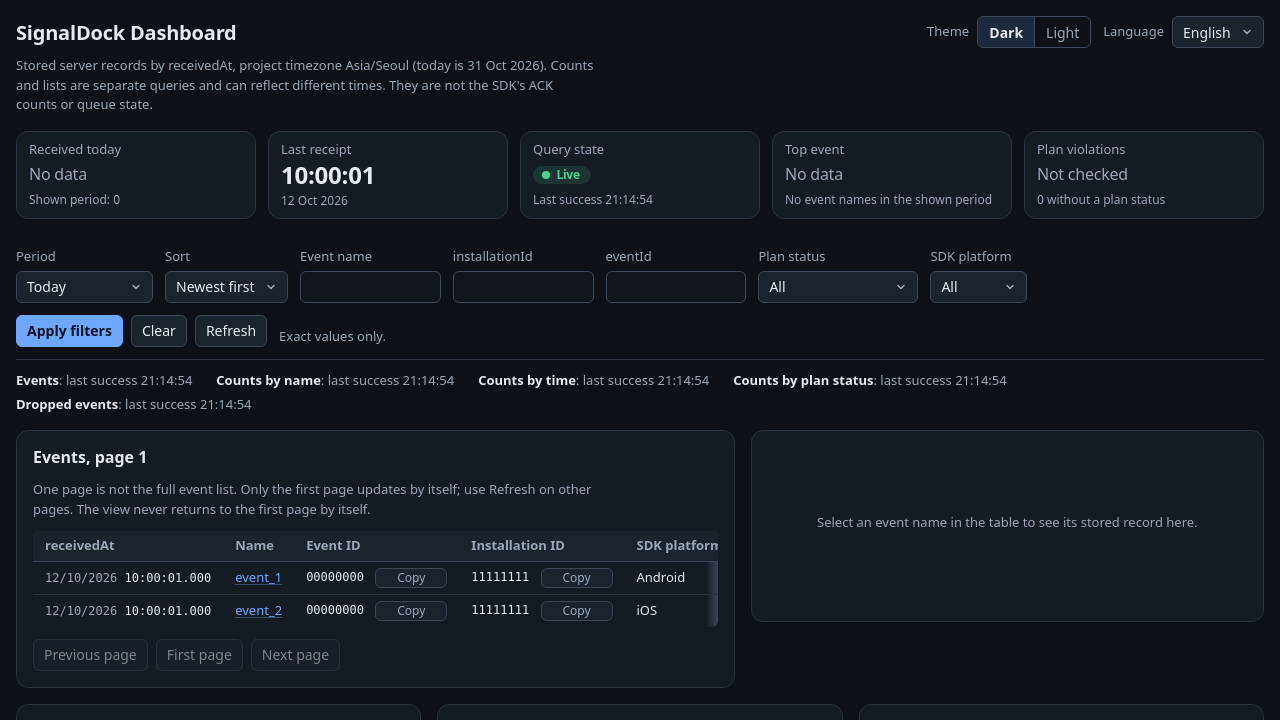
Test: App (en) › platform (ADR-0046) › shows the platform of an ios and an android event in the list and in the details
Click the button "event_1" at (259, 578), box [235,568,282,587]
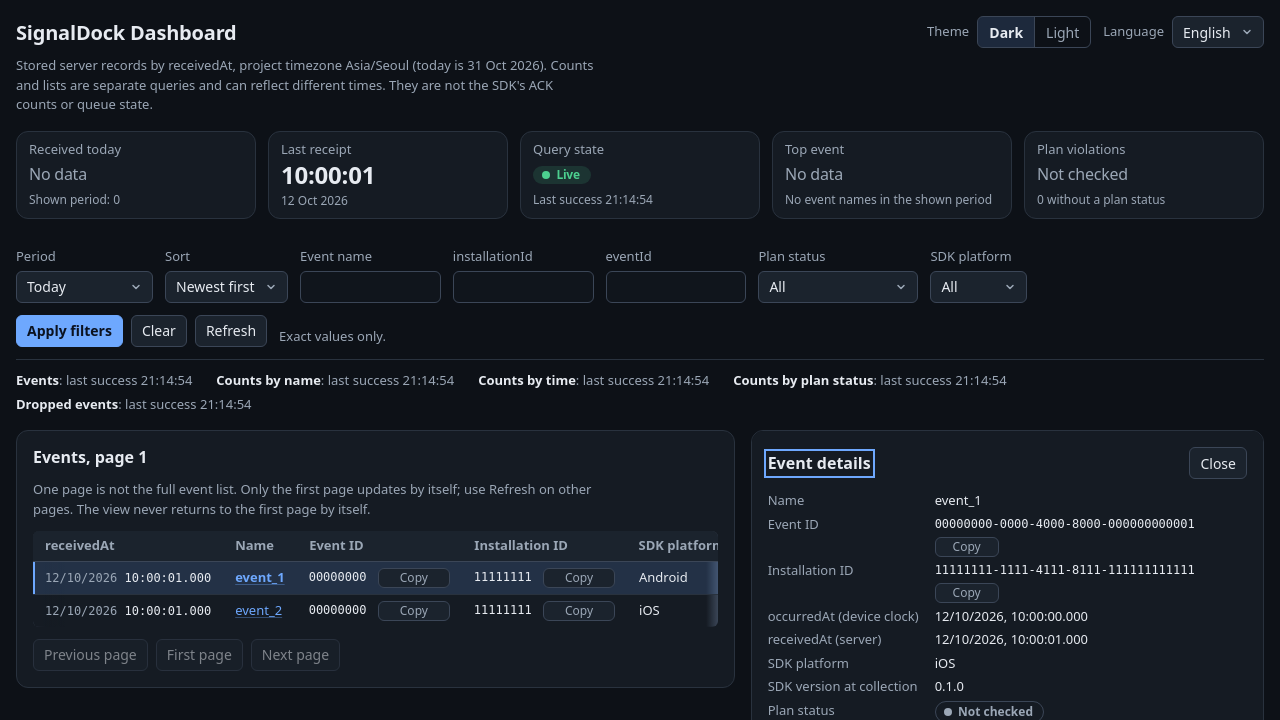
Result: the text "iOS" is shown at [935,654,955,672]
